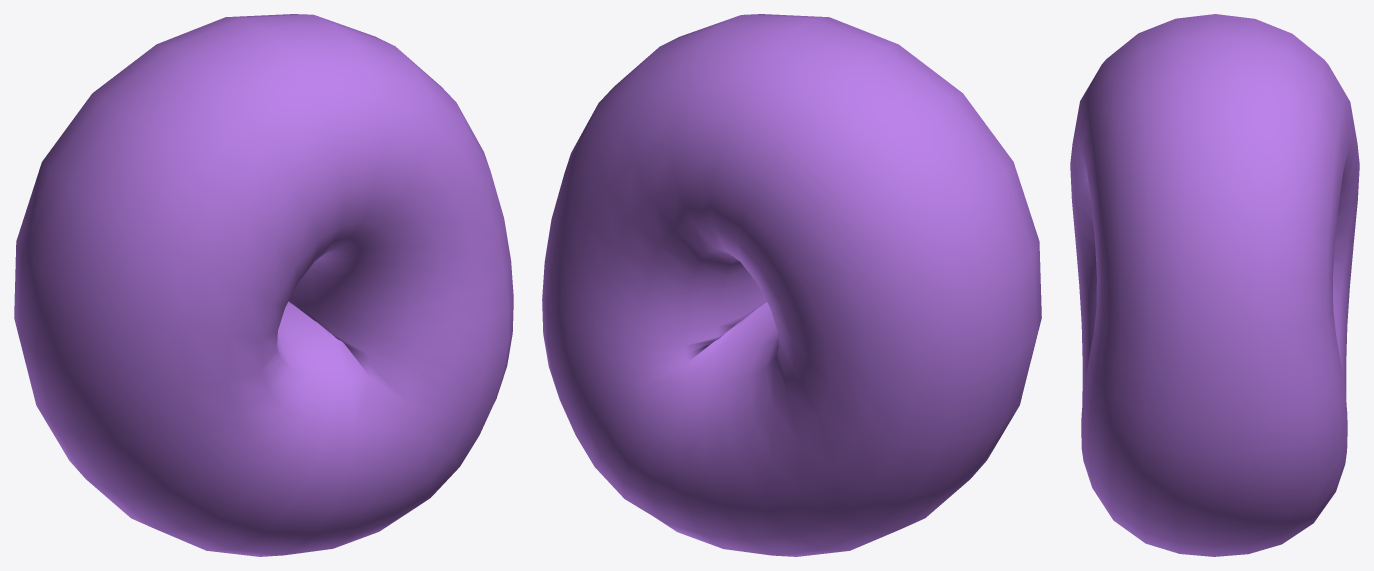
3 views of the same model, side by side, from view 1: azimuth 30°, elevation 25°; view 2: azimuth 150°, elevation 25°; view 3: azimuth 270°, elevation 25° (orthographic). The views are drawn at different scales.
Visible parts, largest first — view 1: Object_30; view 2: Object_30; view 3: Object_30.
Boxes of the visible parts, x1,y1,x2,y2 form: Object_30: (14,14,513,556); Object_30: (542,14,1041,556); Object_30: (1070,14,1359,556).
Size of the model in its own units: 0.9121 by 0.9901 by 0.5325.
